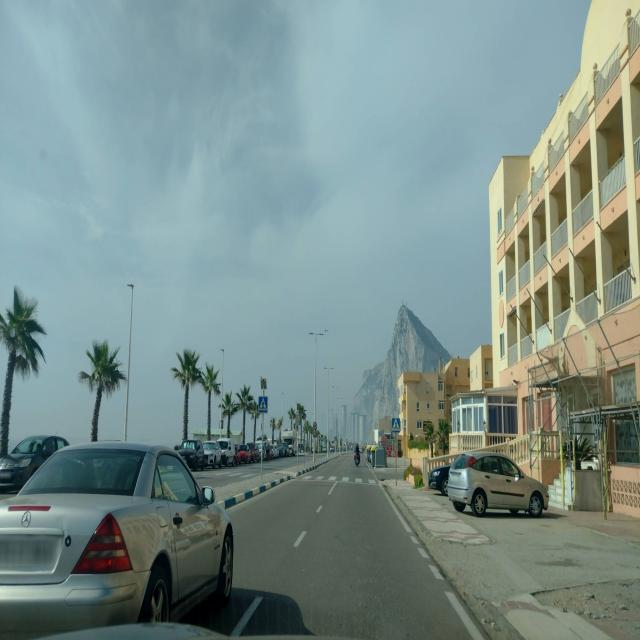bike: (354, 451, 362, 468)
car: (0, 440, 235, 639), (447, 450, 550, 518), (0, 432, 71, 497), (172, 438, 205, 473), (428, 463, 452, 493), (201, 439, 223, 470), (217, 437, 238, 467), (236, 442, 252, 465), (255, 440, 269, 462), (247, 441, 261, 463), (286, 439, 296, 457), (269, 443, 280, 459), (278, 442, 287, 457), (322, 446, 327, 453), (329, 447, 334, 453)
